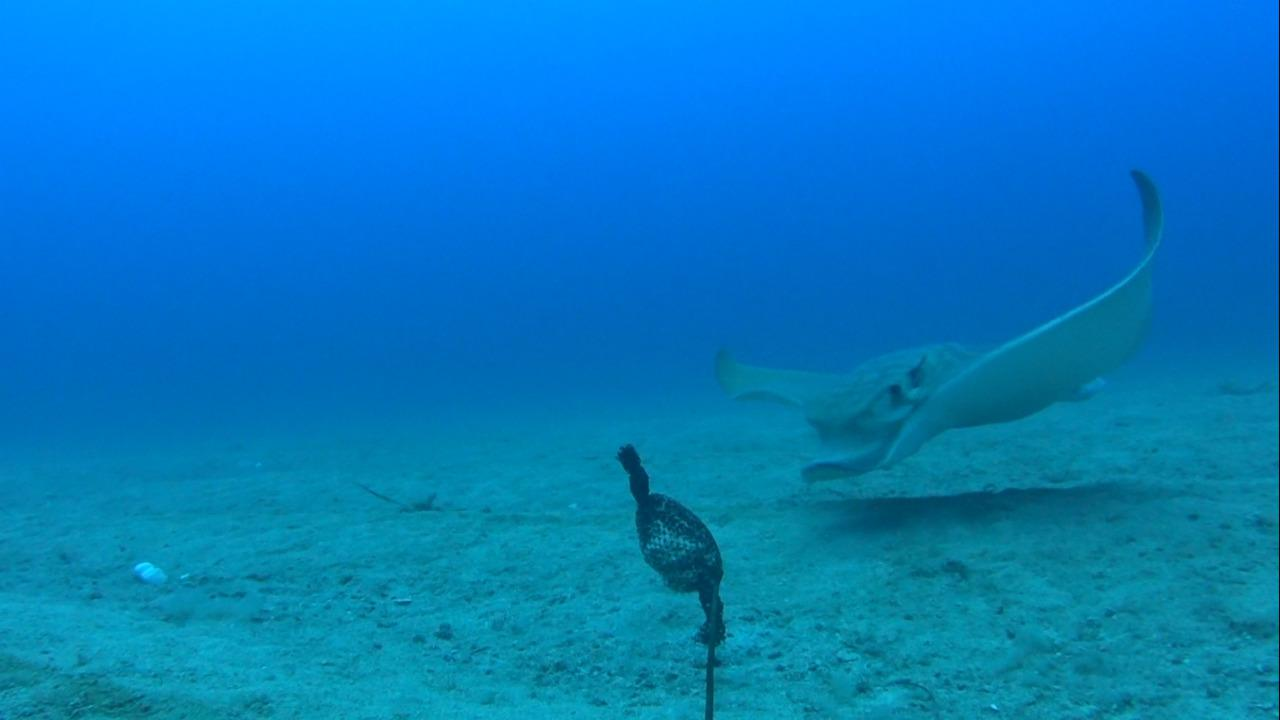myliobatis: (704, 160, 1182, 492)
